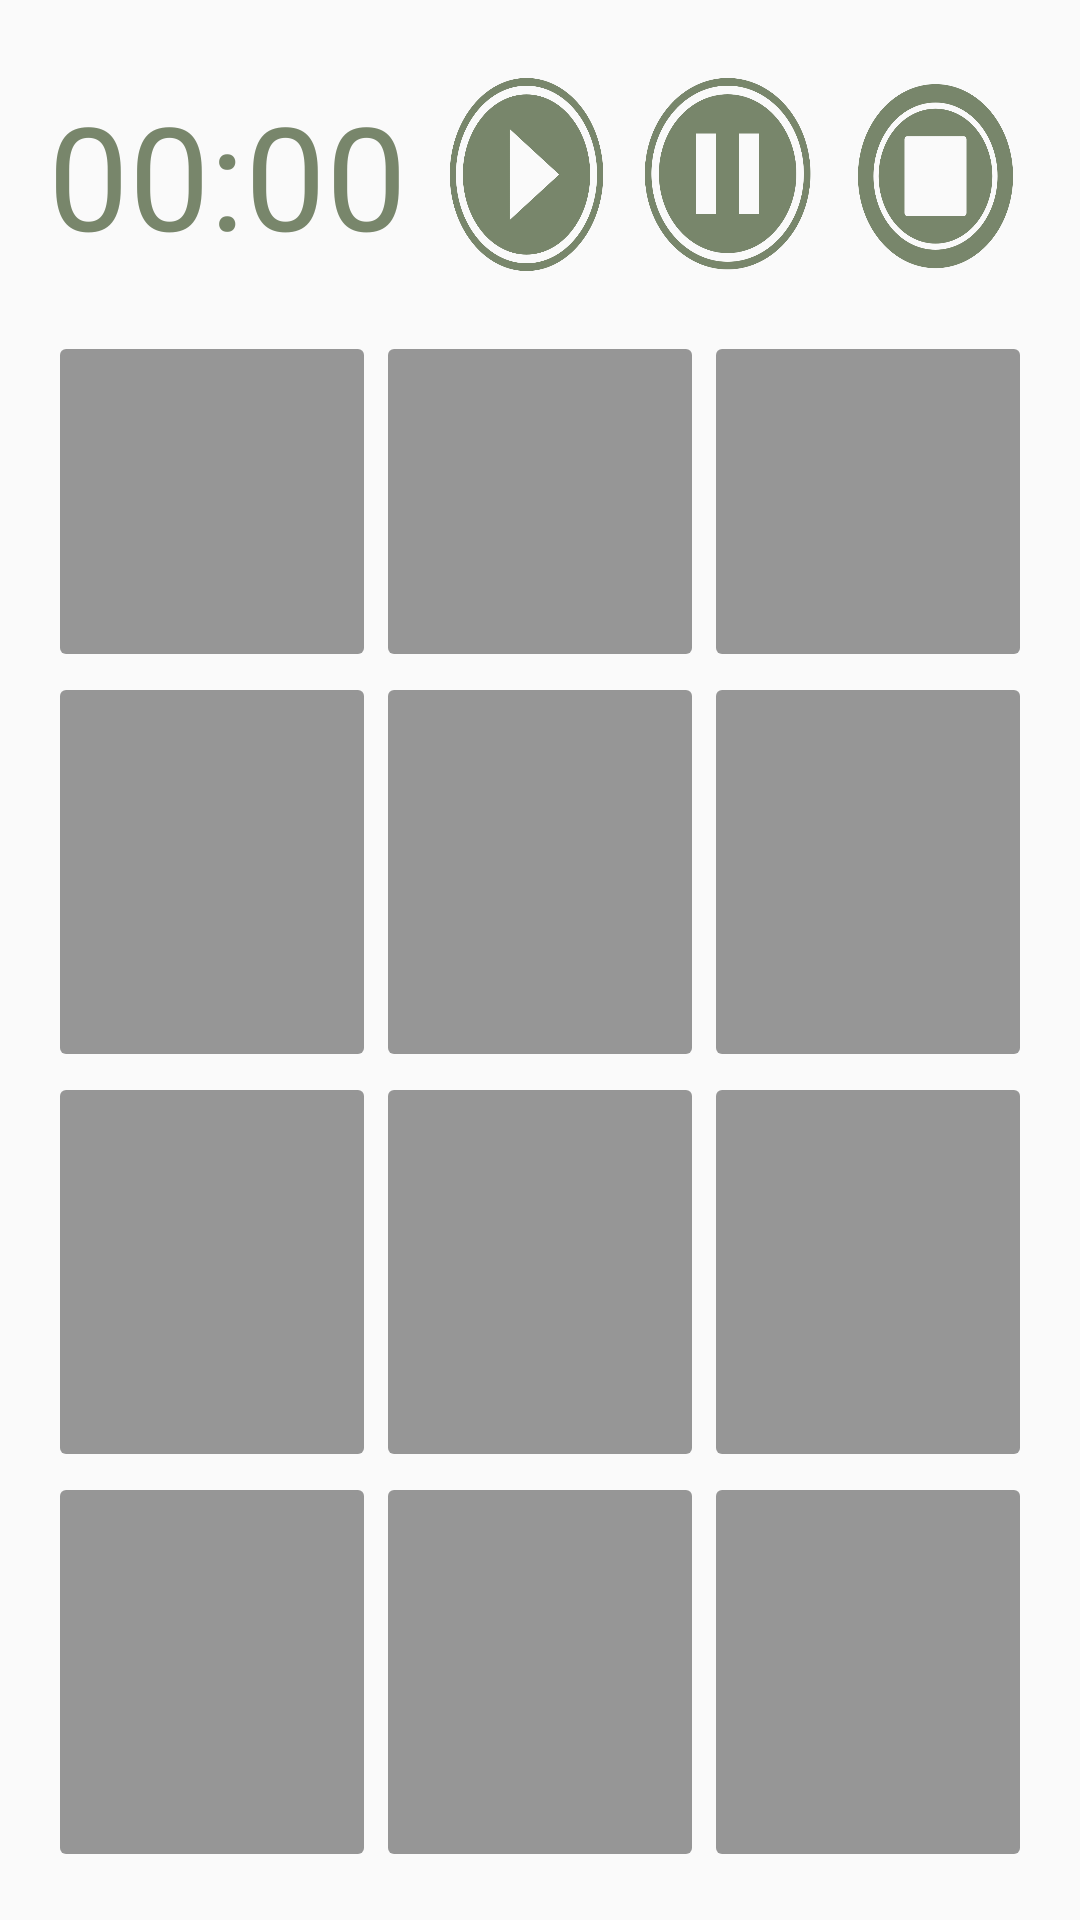

Icon bounding boxes for this 1080px x 1920px phone screenshot, format (x1, y1, x2, y2):
pause: (645, 78, 811, 270)
start: (450, 78, 603, 271)
stop: (858, 84, 1013, 268)
